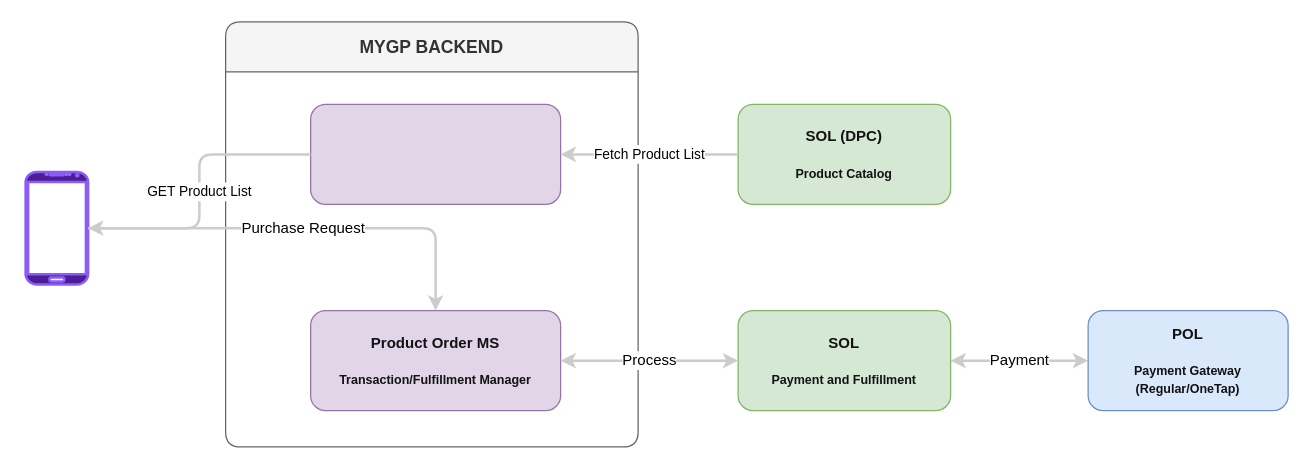
The diagram is 1310 pixels wide and 469 high, and some of its shapes have lost their labels. Each missing label, with the centre of its shape:
MyGP App: (56,227)
Service Order MS Orchestrator: (435,153)
